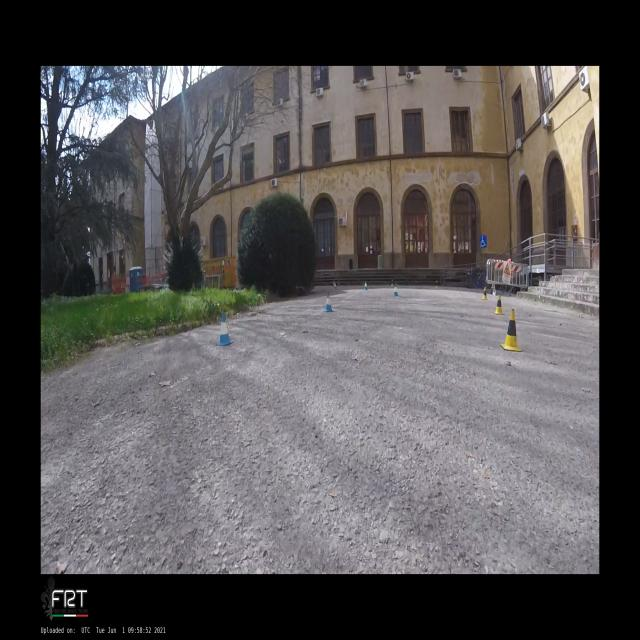blue_cone: (216, 312, 234, 345), (324, 293, 333, 312), (393, 283, 398, 296), (363, 280, 368, 290), (334, 282, 337, 288)
unknown_cone: (338, 280, 340, 287), (333, 280, 335, 286)
yellow_cone: (500, 309, 522, 351), (494, 294, 503, 314), (482, 286, 487, 299), (391, 279, 394, 286), (436, 280, 438, 289)
